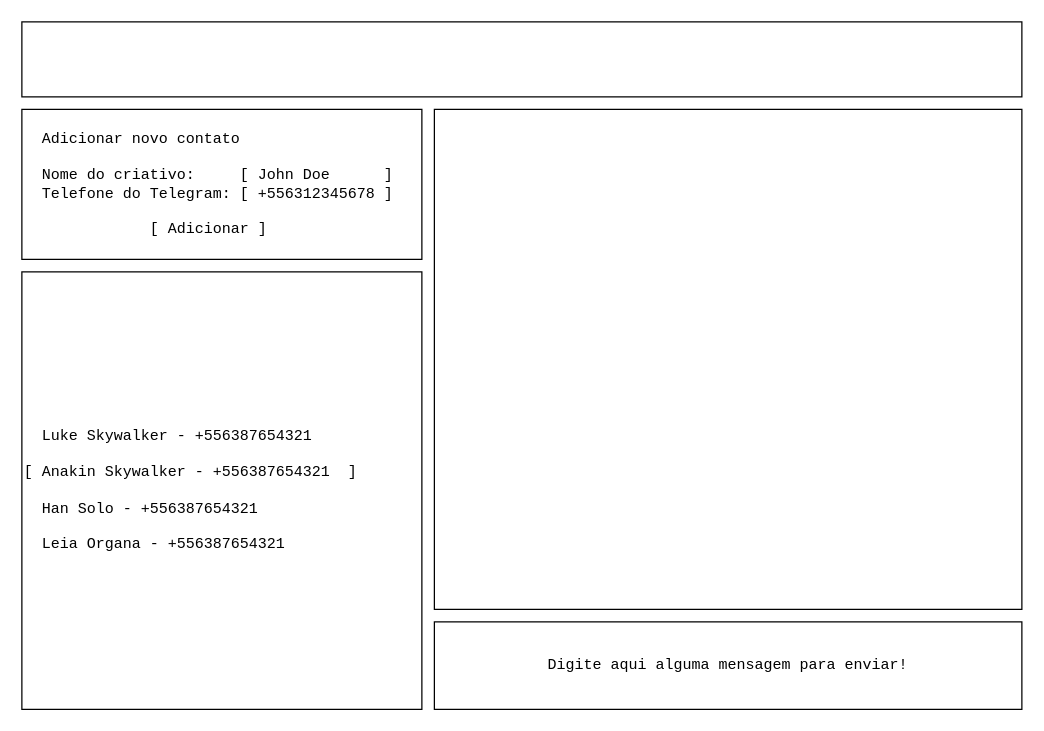
Image size: 1044x731. Some labels were removed from this diagram. The shapes that lost their labels are listed below. From the top down, each one's centre as x and y in pixels, then its label:
(521,59): Olá Admin | Sair
(727,358): Chatbox
